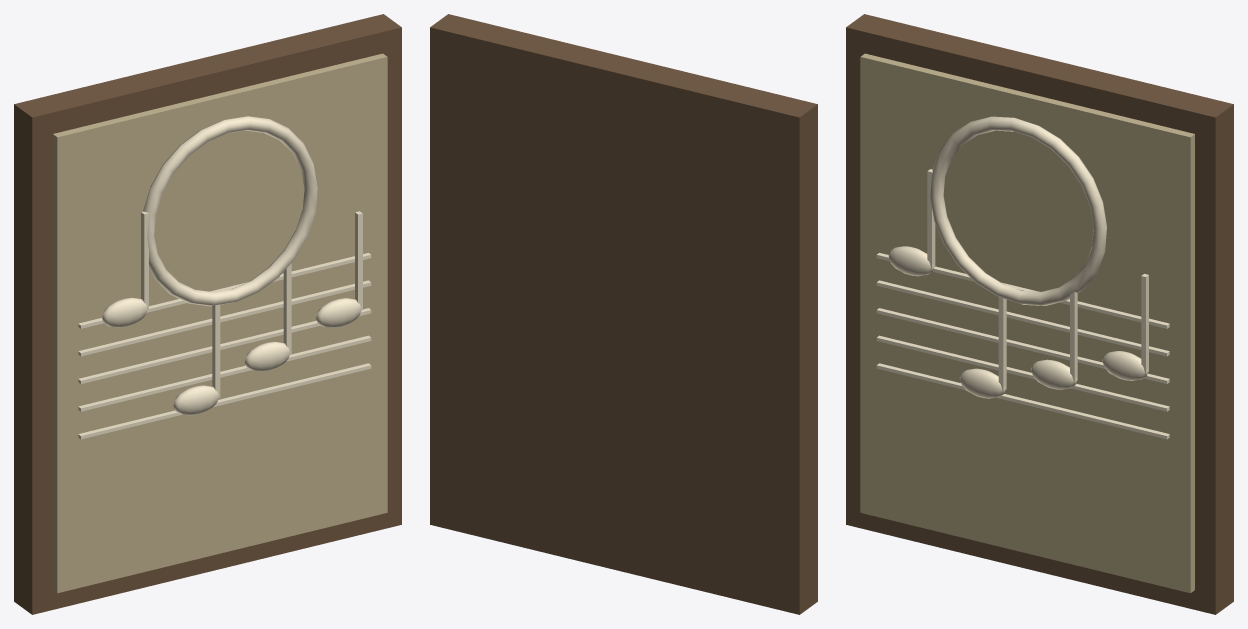
3 views of the same model, side by side, from view 1: azimuth 30°, elevation 25°; view 2: azimuth 150°, elevation 25°; view 3: azimuth 330°, elevation 25° (orthographic).
Bounding box in the file's own units: 1.4 × 1.8 × 0.2415.
